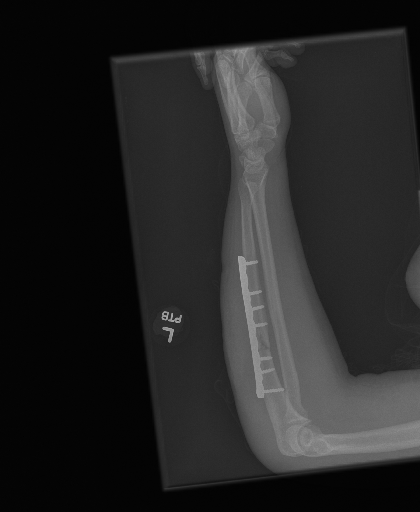implant: (235, 255, 285, 400)
